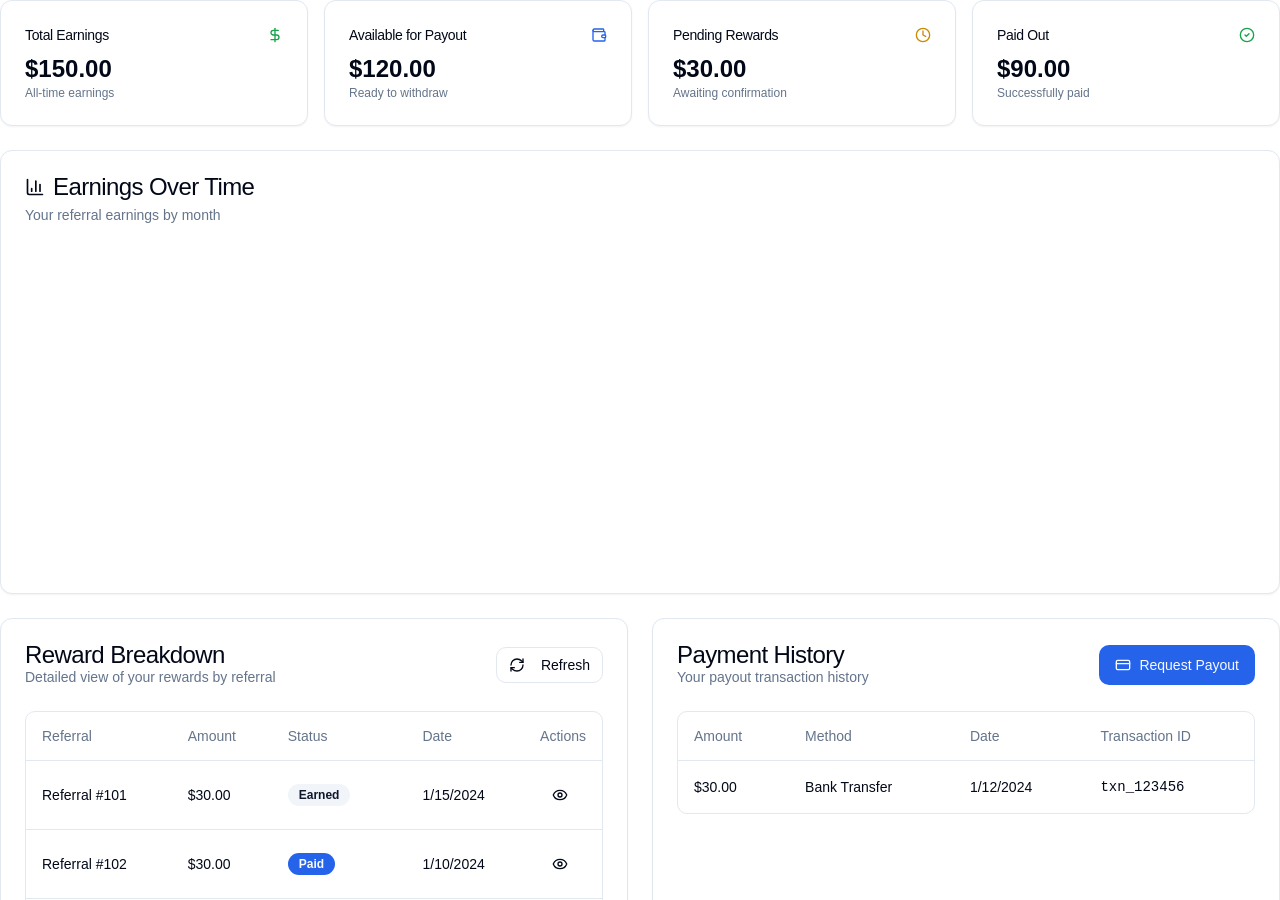
Test case: RewardsDashboard › opens payout modal when request payout is clicked
Click the button "Request Payout" at (1177, 665), box 1099,645 -> 1255,685
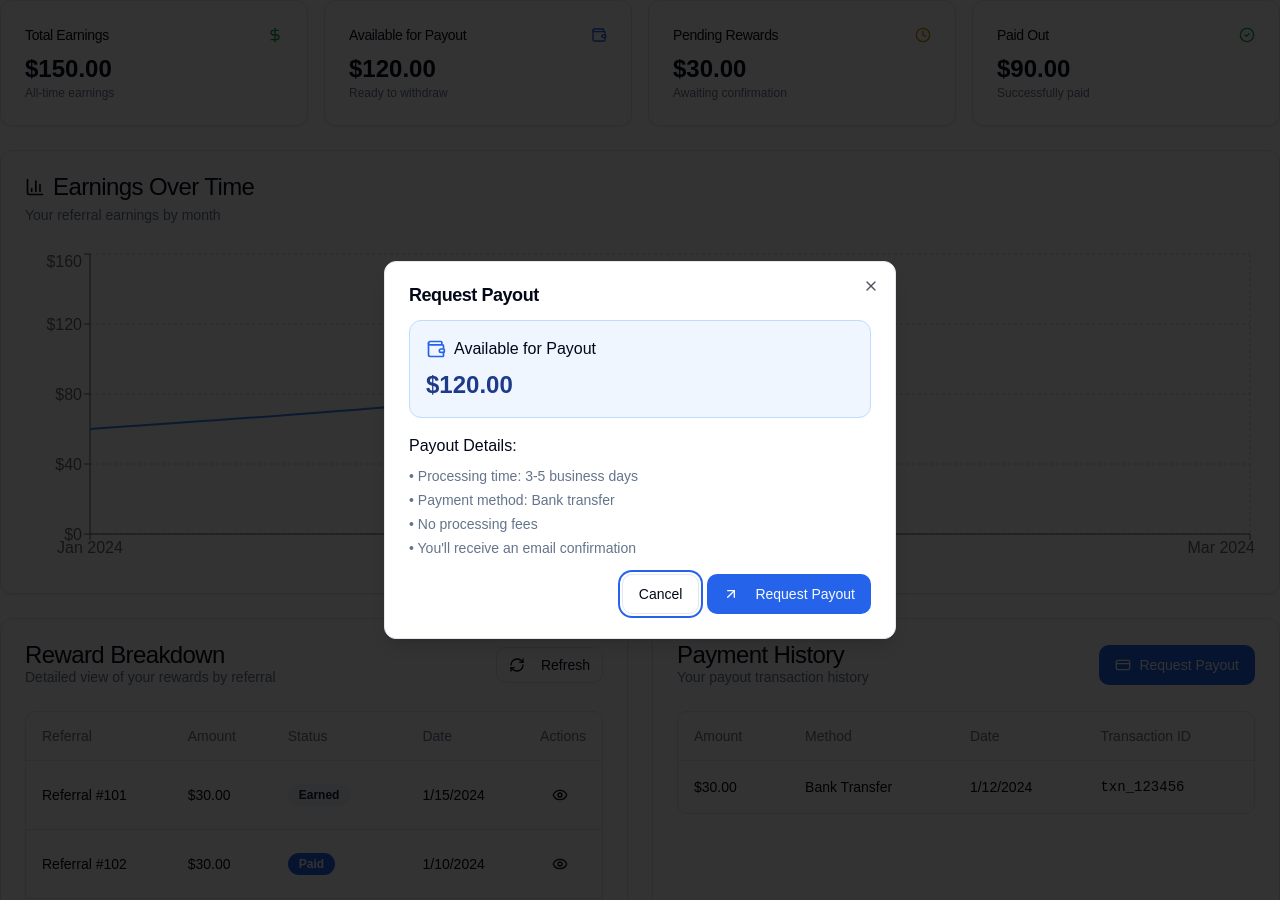
Now the list item "• Processing time: 3-5 business days" is shown, box 409,468 -> 638,484
